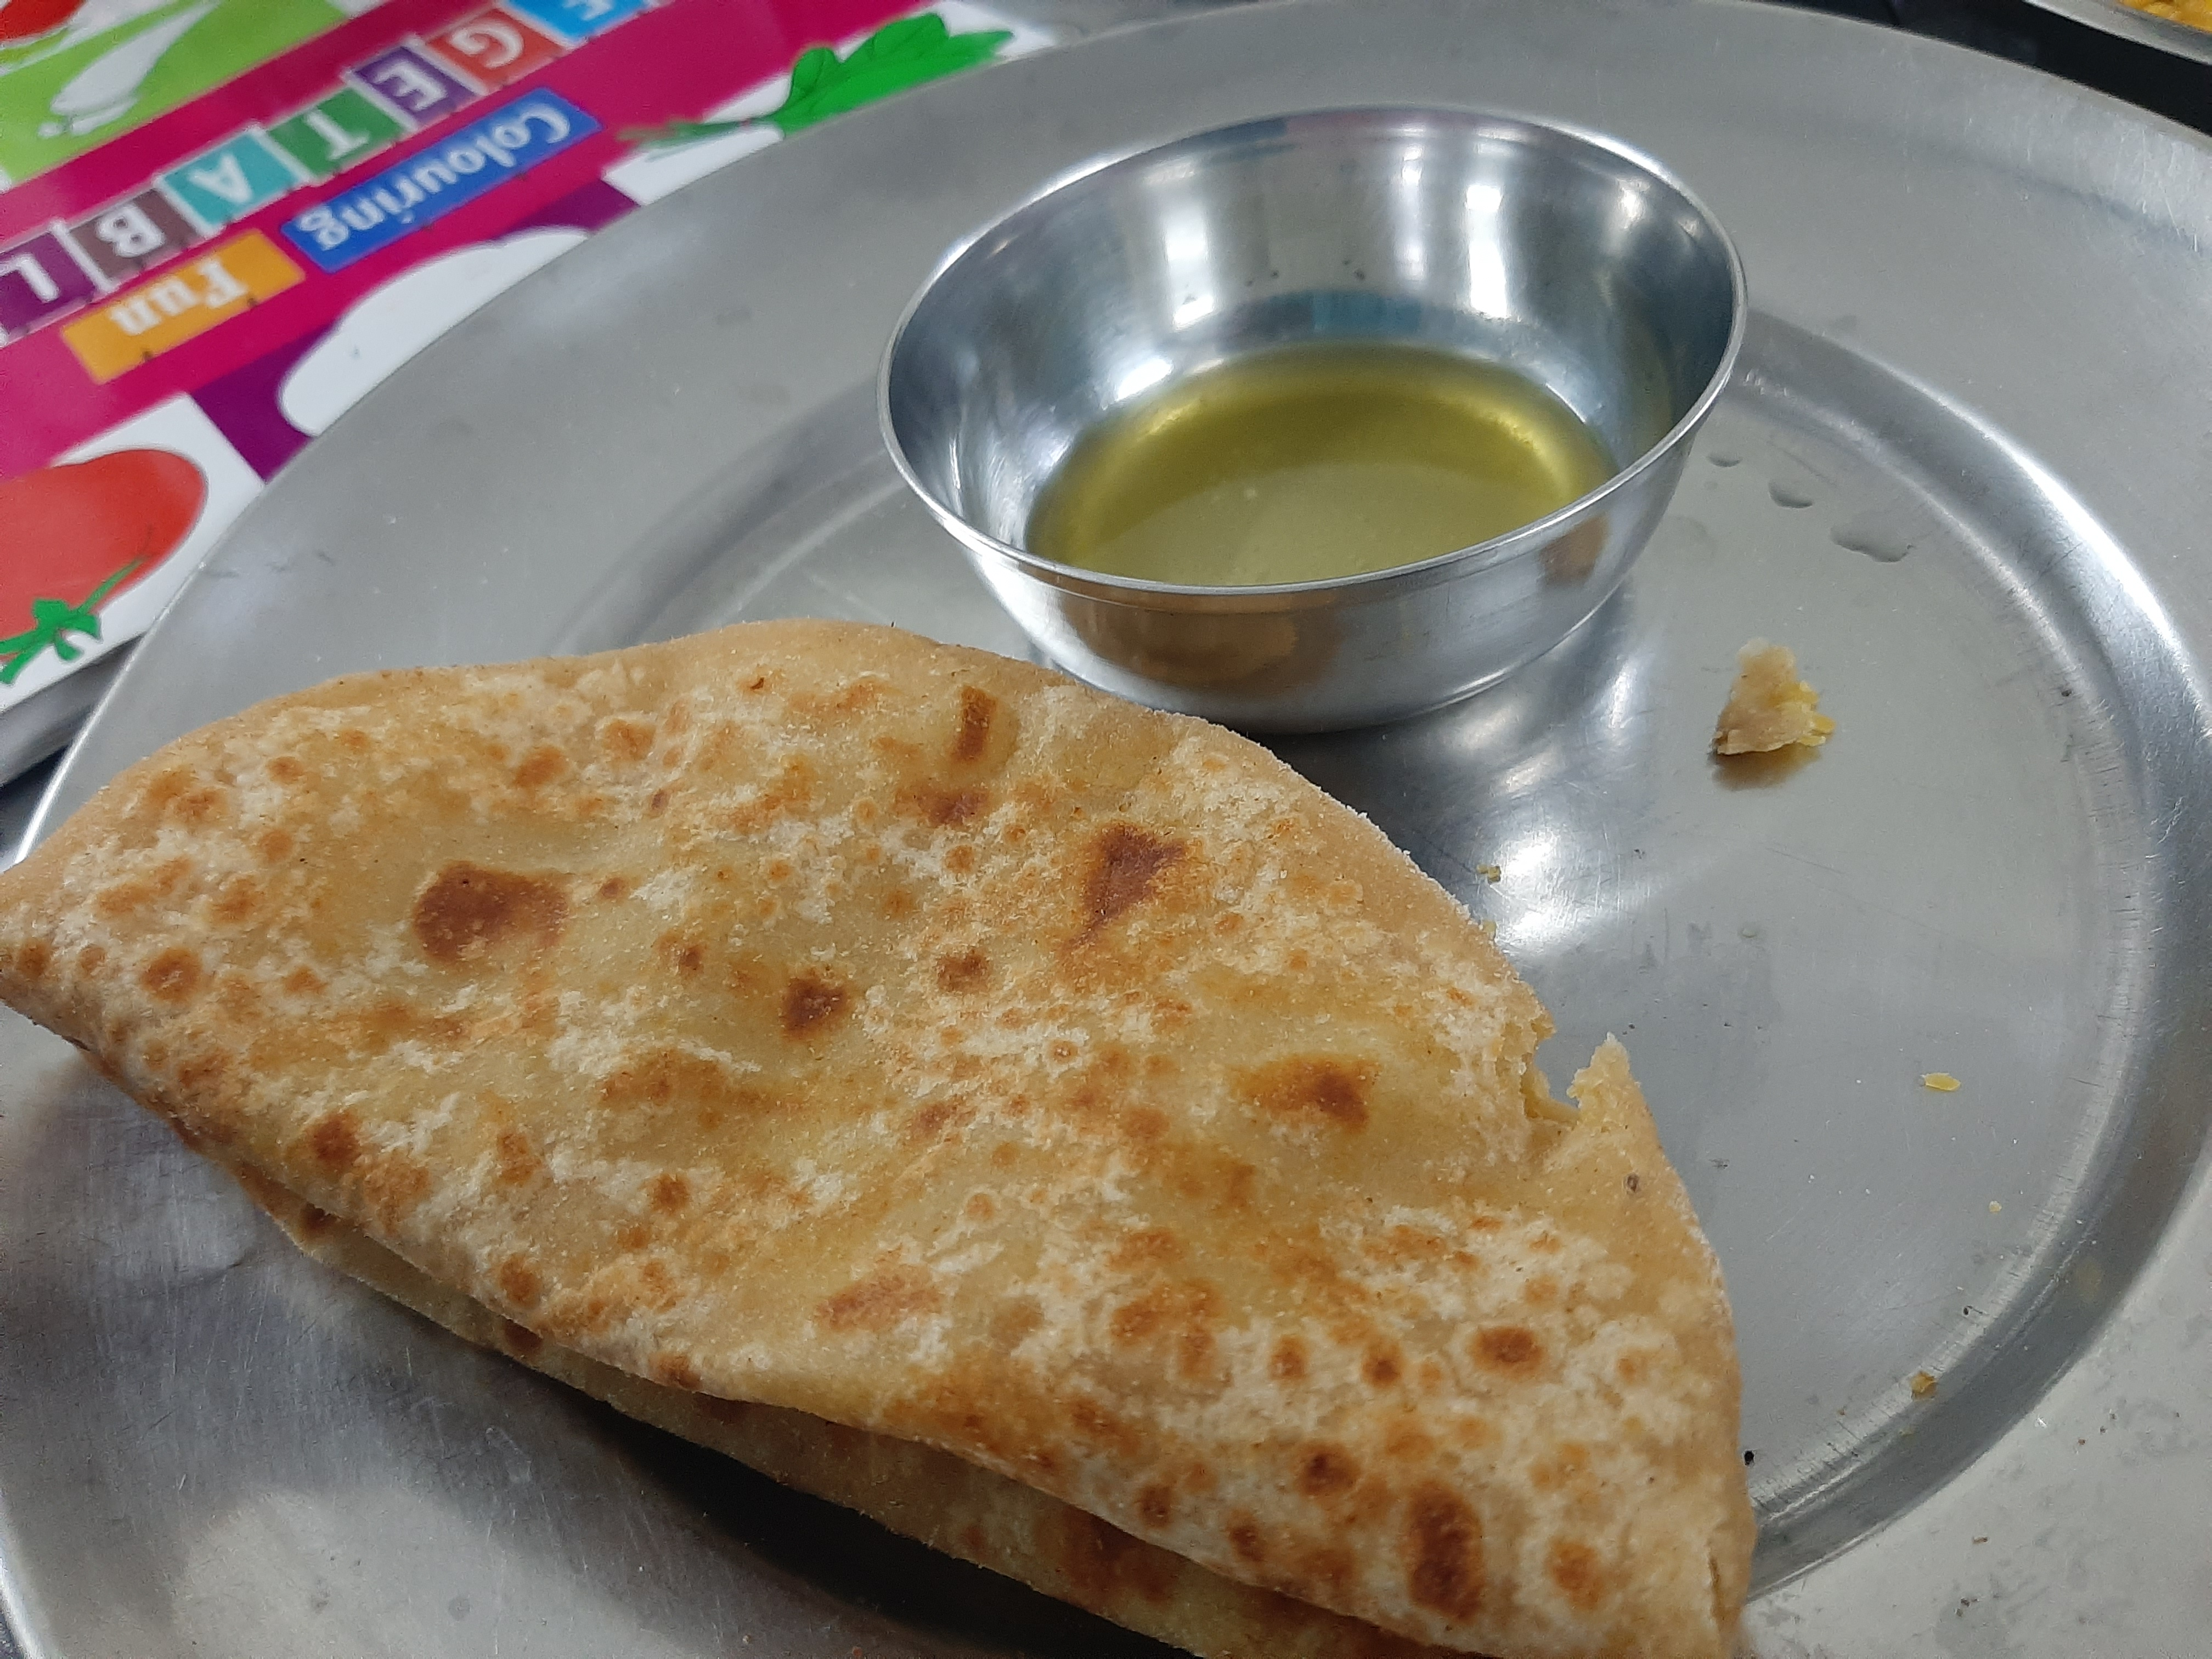food: (2, 87, 1766, 1659)
